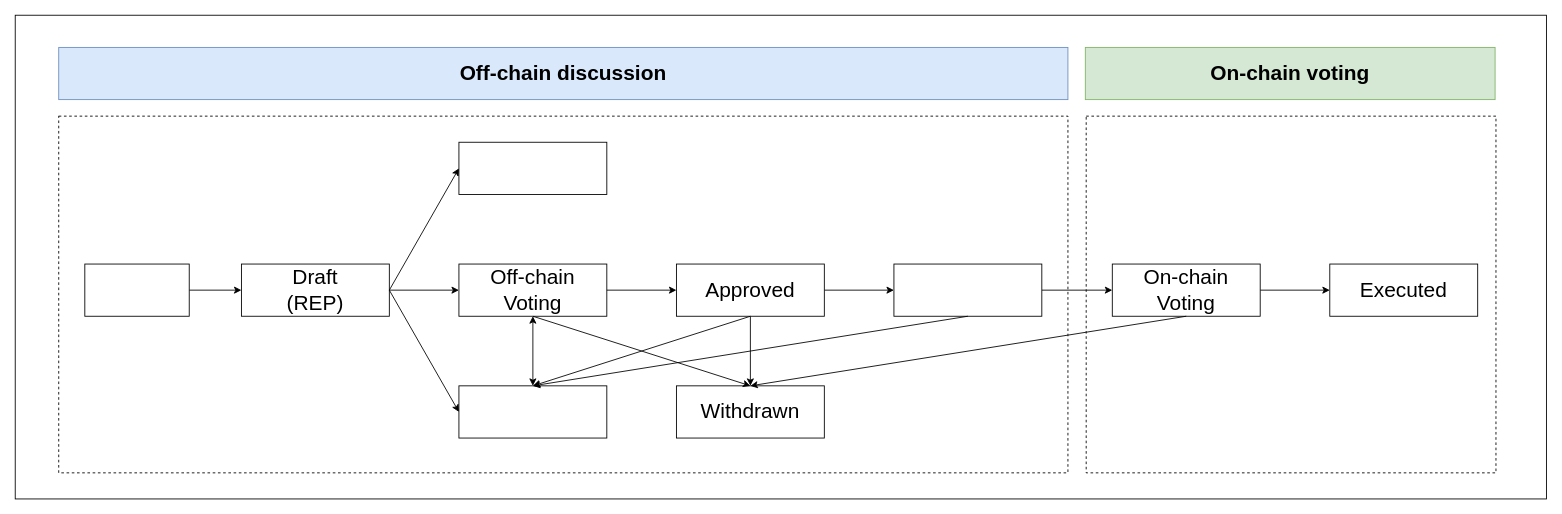
Some shapes in this 1562 by 514 pixel diagram are drawn without their labels. The shapes that lost their labels are listed below. From the top down, each one's box as (x1, y1, x2, y2) in pixels, then its label:
(458, 141, 607, 194): Living
(84, 263, 189, 316): Idea
(893, 263, 1042, 316): Final
(458, 385, 607, 438): Stagnant
